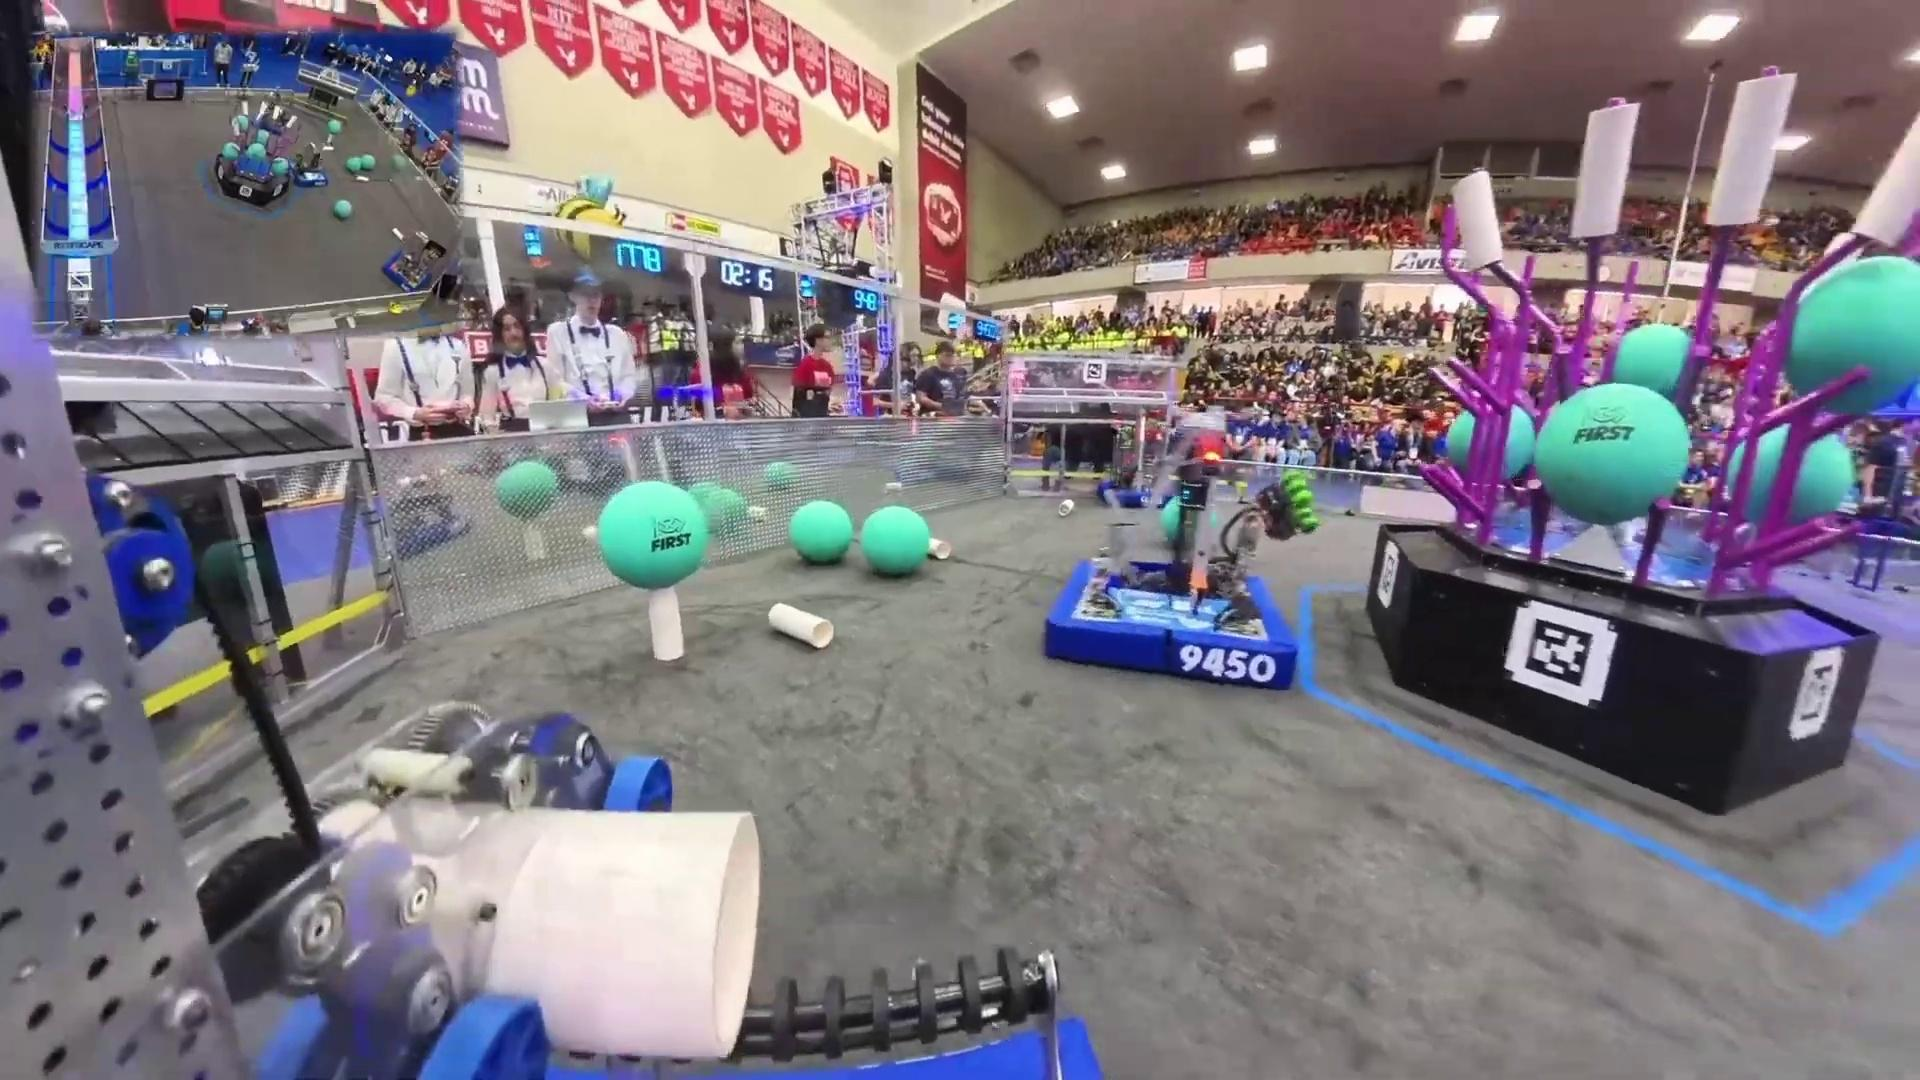robot: (1044, 398, 1304, 694), (1096, 415, 1185, 508), (381, 231, 443, 293), (287, 142, 334, 189)
